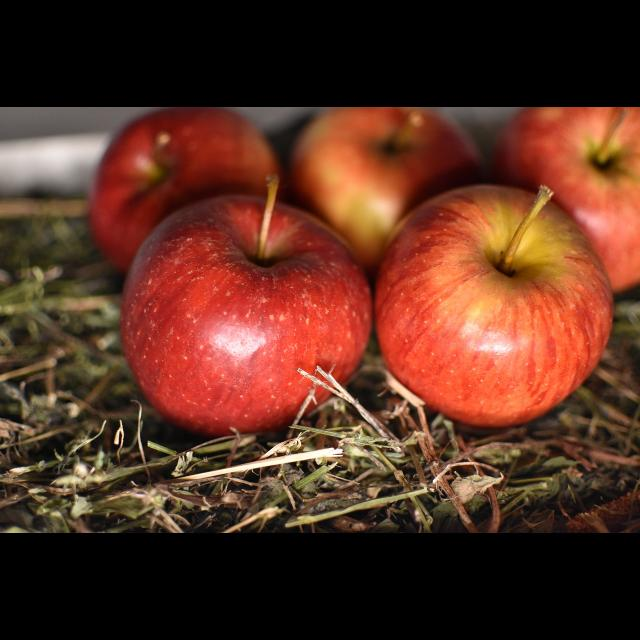Apel Segar: (116, 200, 368, 438), (386, 184, 616, 438)
